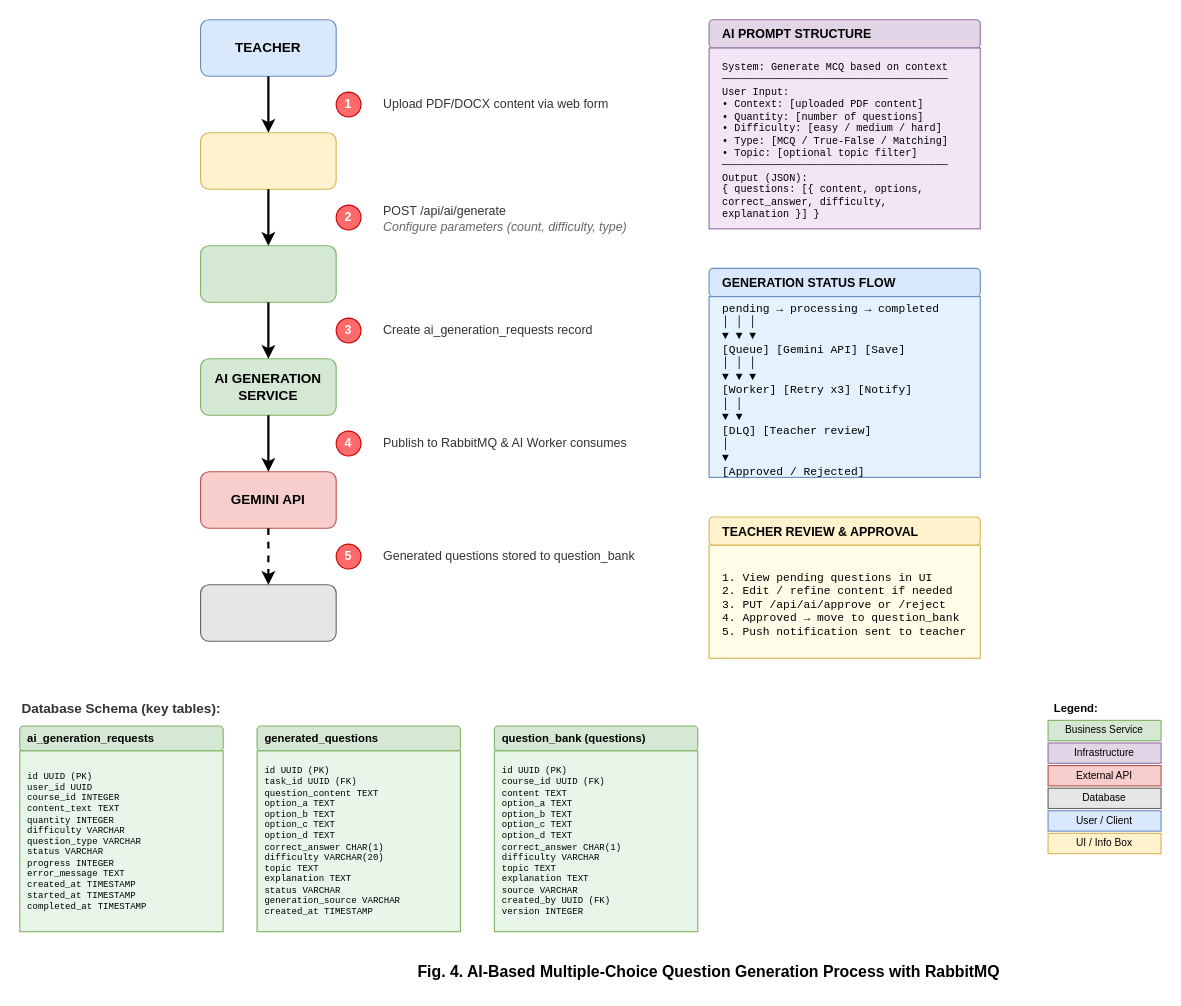
This 1181x1006 diagram has some shape labels left out. The centre of each missing label's shape, as x and y in pixels:
"FRONTEND (React)" goes at point 267,160.
"QUESTION BANK (PostgreSQL)" goes at point 267,612.
"QUESTION SERVICE" goes at point 267,273.
